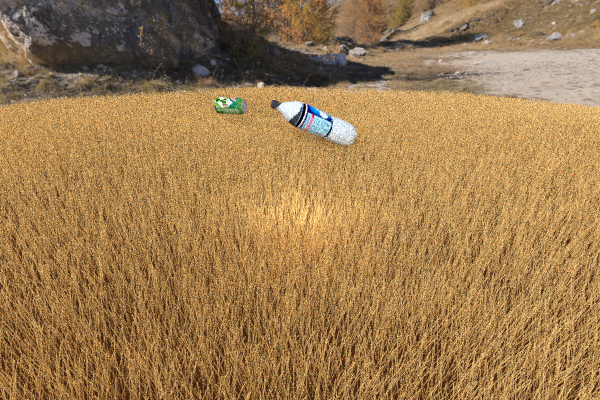bottle: (270, 99, 357, 146)
can: (213, 97, 246, 114), (202, 90, 230, 108)
